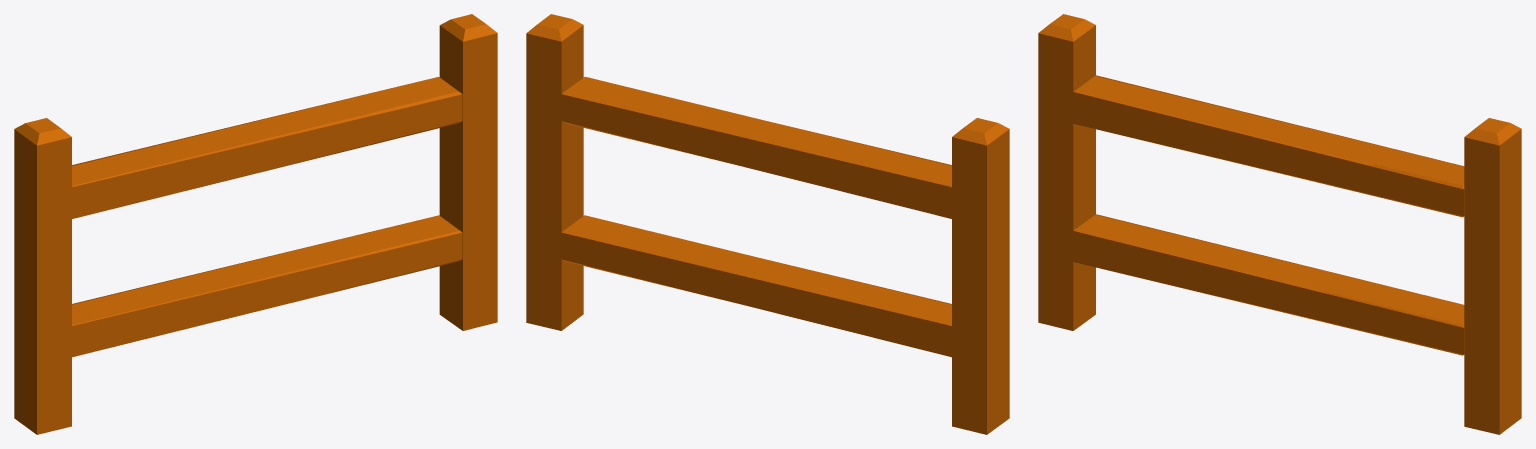
File: testFracture.fbx
3 renders of one model, left to right at view 1: azimuth 30°, elevation 25°; view 2: azimuth 150°, elevation 25°; view 3: azimuth 330°, elevation 25°, orthographic.
Parts seen in each view (by area): view 1: Cube, Cube_cell.001, Cube_cell.002, Cube_cell.003, Cube_cell, Cube_cell.004, Cube_cell.006, Cube_cell.005; view 2: Cube, Cube_cell.001, Cube_cell, Cube_cell.003, Cube_cell.004, Cube_cell.002; view 3: Cube, Cube_cell.001, Cube_cell.002, Cube_cell, Cube_cell.003, Cube_cell.004, Cube_cell.005, Cube_cell.006.
Boxes of the visible parts, <box> form: Cube: <box>14,14,493,434</box>; Cube_cell.001: <box>14,97,371,254</box>; Cube_cell.002: <box>25,240,337,434</box>; Cube_cell.003: <box>439,60,497,330</box>; Cube_cell: <box>72,215,462,315</box>; Cube_cell.004: <box>319,77,462,157</box>; Cube_cell.006: <box>200,129,337,186</box>; Cube_cell.005: <box>463,24,497,74</box>; Cube: <box>526,14,1009,434</box>; Cube_cell.001: <box>651,98,1009,257</box>; Cube_cell: <box>564,215,951,325</box>; Cube_cell.003: <box>561,59,583,330</box>; Cube_cell.004: <box>565,77,670,111</box>; Cube_cell.002: <box>886,239,1009,426</box>; Cube: <box>1040,14,1521,388</box>; Cube_cell.001: <box>1038,14,1396,164</box>; Cube_cell.002: <box>1038,141,1339,330</box>; Cube_cell: <box>1084,132,1464,355</box>; Cube_cell.003: <box>1464,170,1521,434</box>; Cube_cell.004: <box>1323,150,1464,217</box>; Cube_cell.005: <box>1464,127,1521,172</box>; Cube_cell.006: <box>1201,154,1339,186</box>.
Bounding box in the file's own units: 862 × 531 × 74.77.
